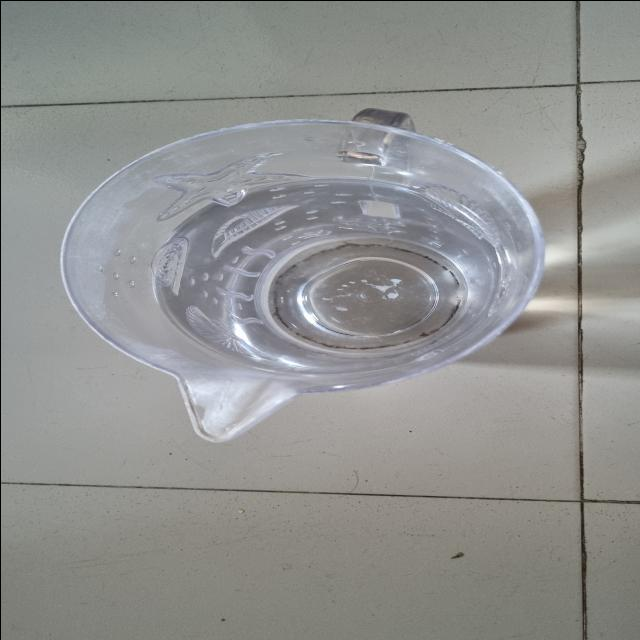Breeding Place: (51, 108, 558, 443)
